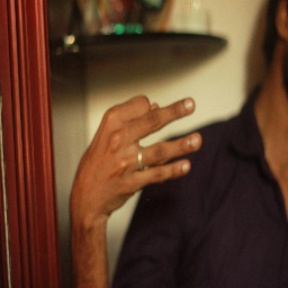K: (74, 96, 206, 205)
